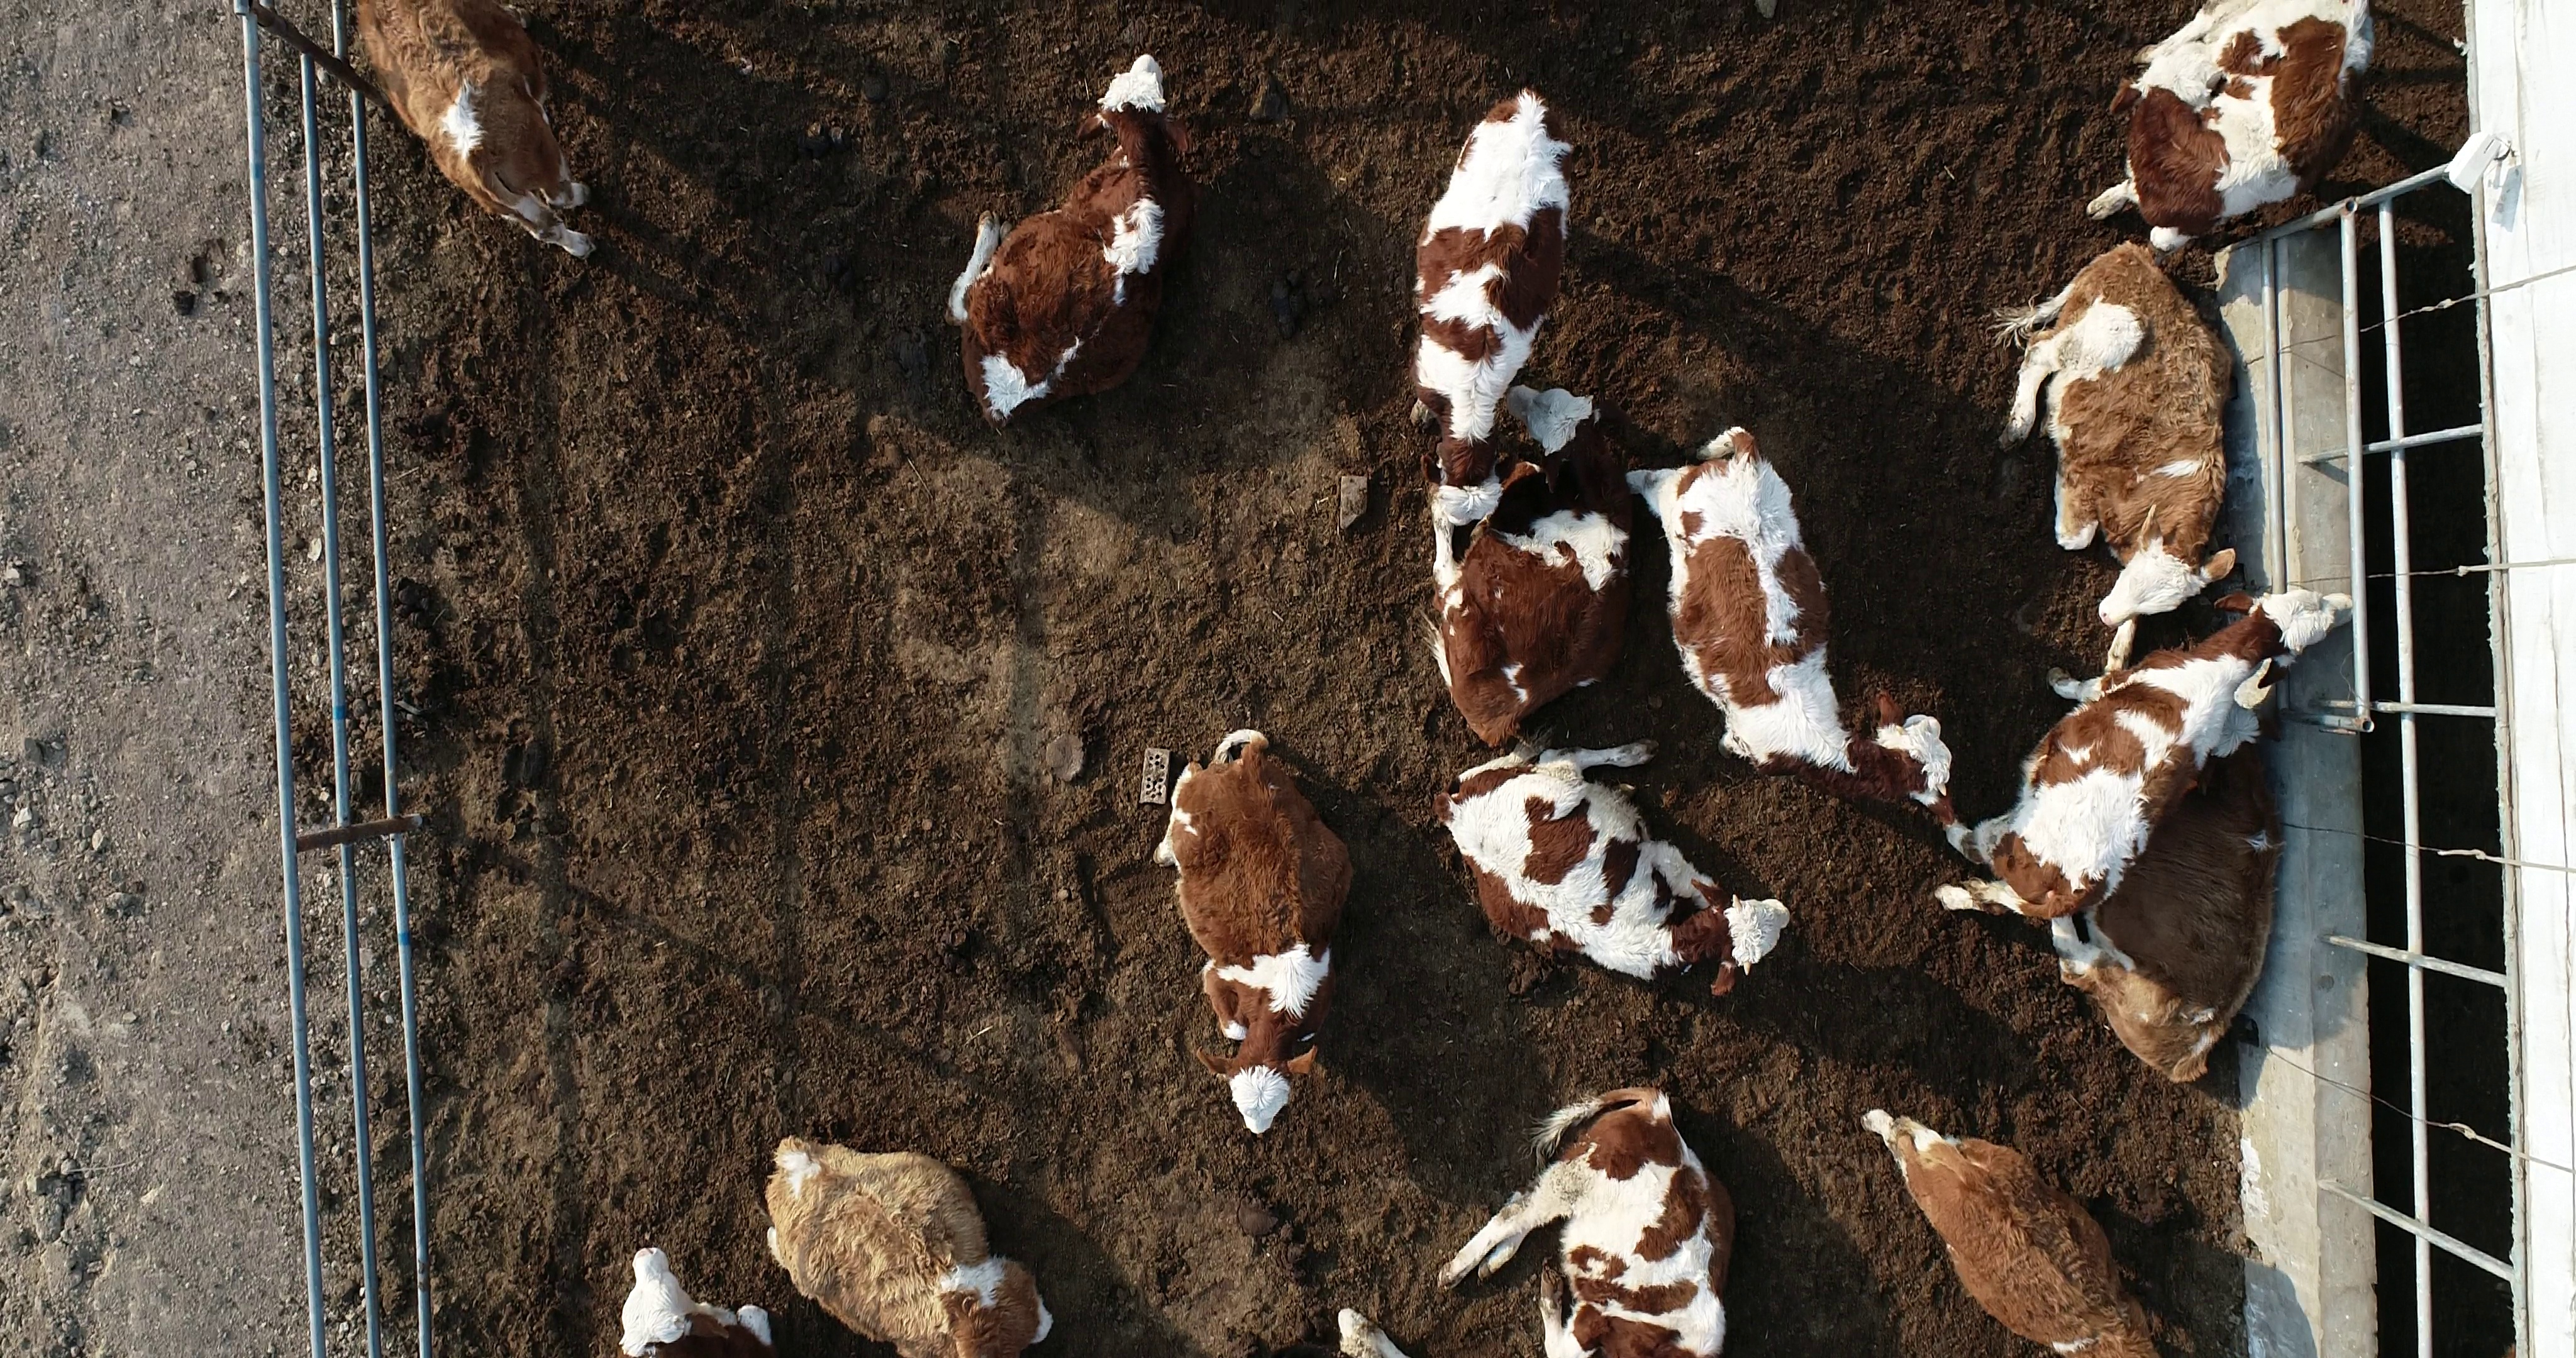cattle: (939, 46, 1196, 431), (1399, 82, 1581, 535)
